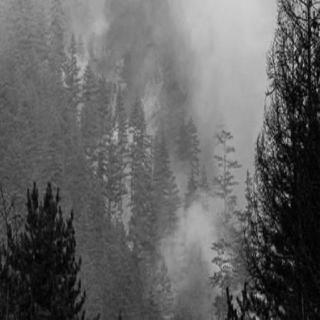Fire: (90, 33, 170, 256)
